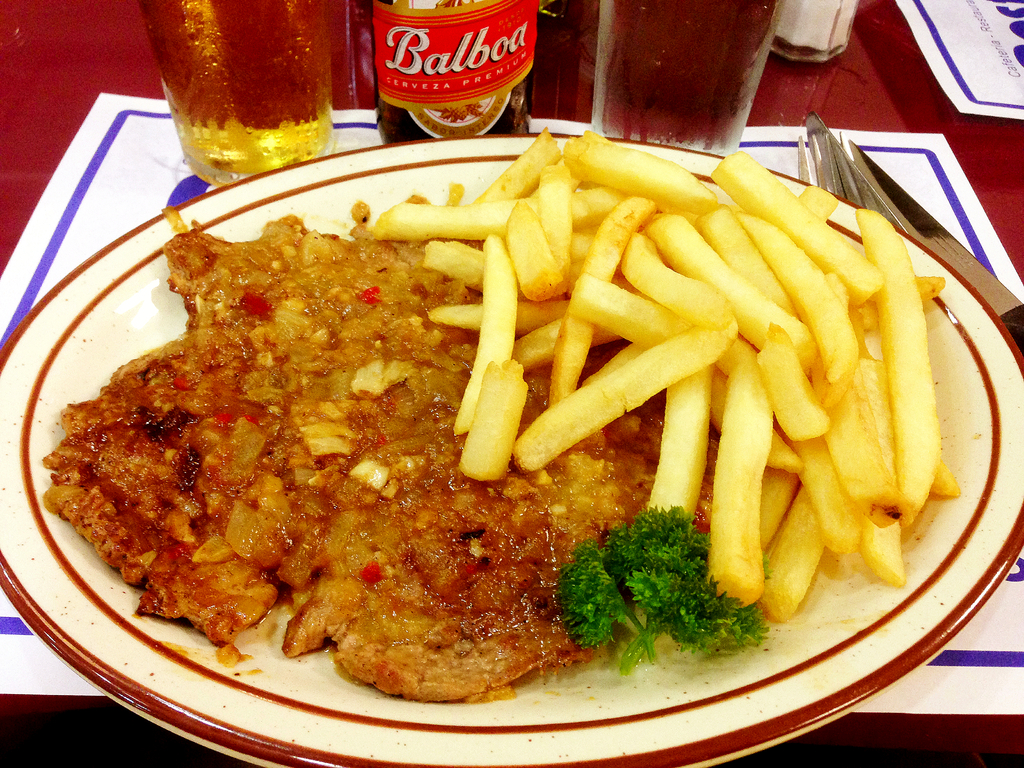French fries: (360, 120, 951, 633)
